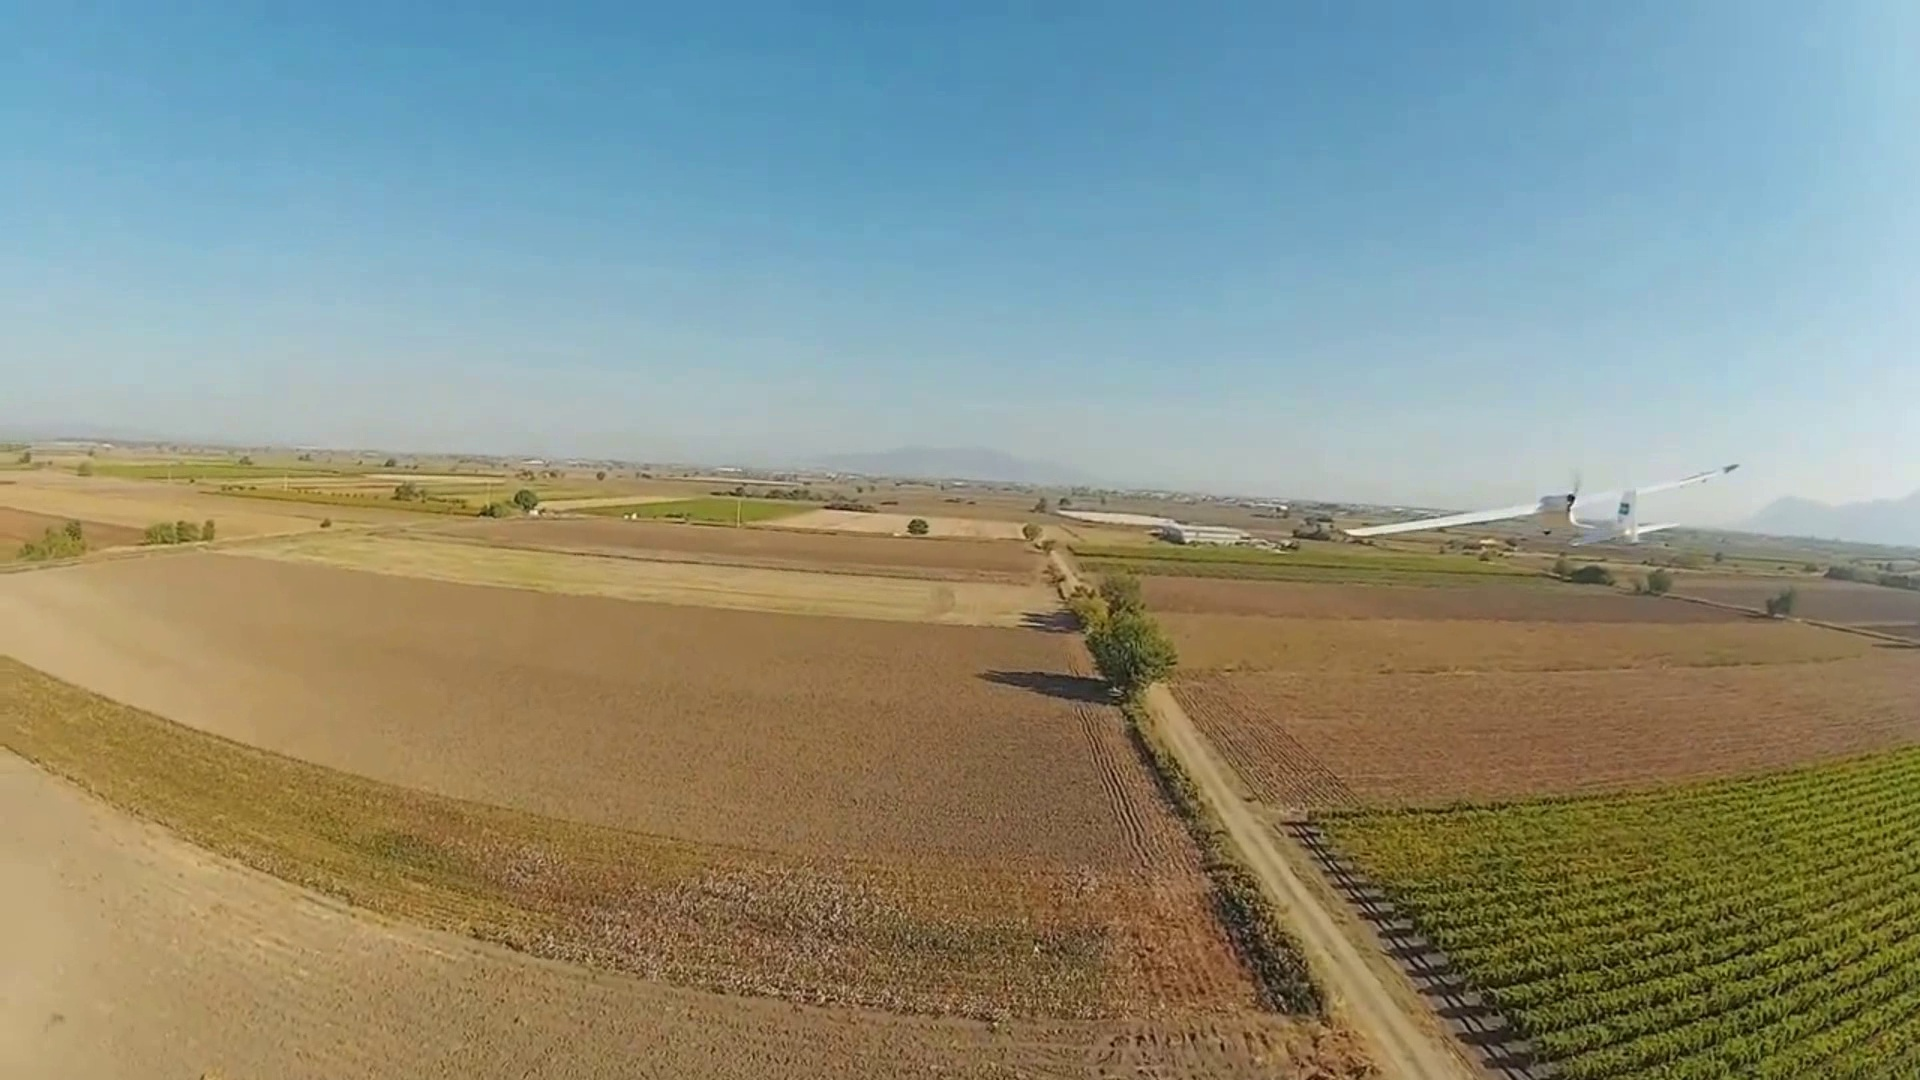airplane: (1345, 455, 1741, 550)
